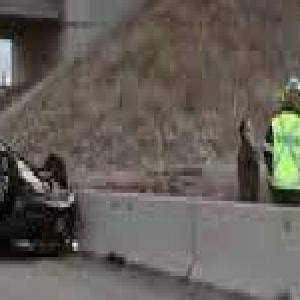critical: (0, 78, 82, 254)
